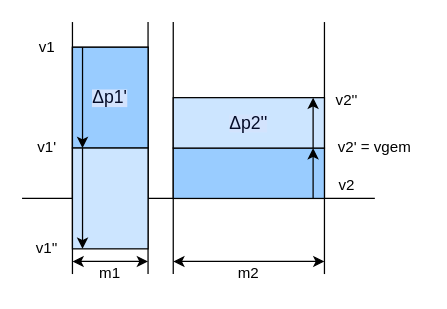
Image size: 447x309. Some labels were removed from this diagram. Here are the shapes that lost their labels. From the top down, the centre of each, then its label:
the point at 248,172: Δp2'
the point at 109,198: Δp1''
